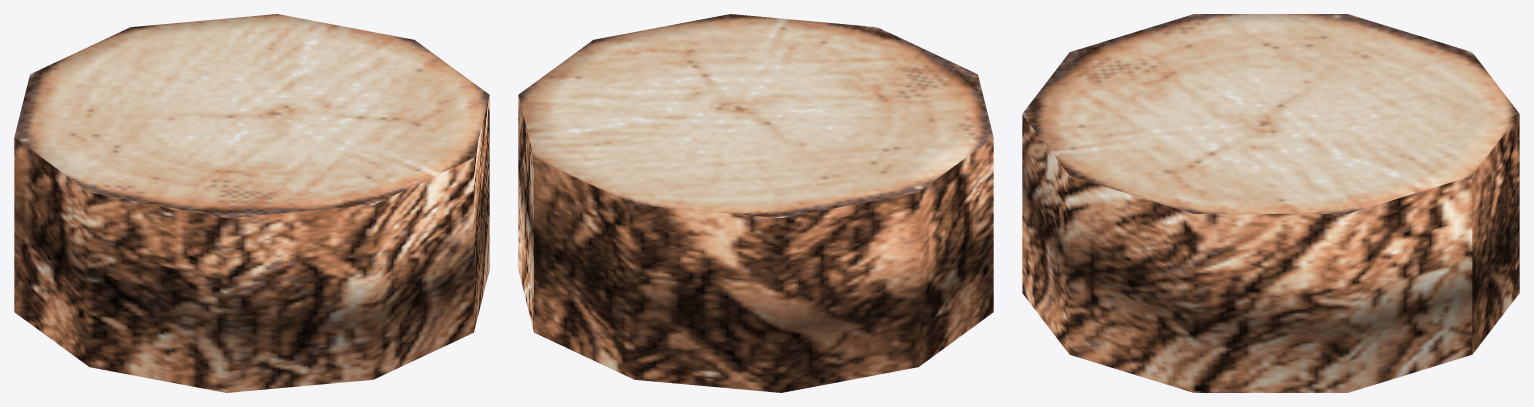
The model's file is logchopperbase.fbx.
The picture shows the model from 3 angles, left to right: view 1: azimuth 30°, elevation 25°; view 2: azimuth 150°, elevation 25°; view 3: azimuth 270°, elevation 25°; orthographic projection. The views are drawn at different scales.
Parts seen in each view (by area): view 1: Cylinder; view 2: Cylinder; view 3: Cylinder.
Boxes of the visible parts, box(x1,y1,x2,y2) form: Cylinder: box(14, 14, 489, 392); Cylinder: box(518, 14, 993, 392); Cylinder: box(1022, 14, 1519, 392).
Bounding box in the file's own units: 392 × 163 × 412.
1 material, 1 textured.
